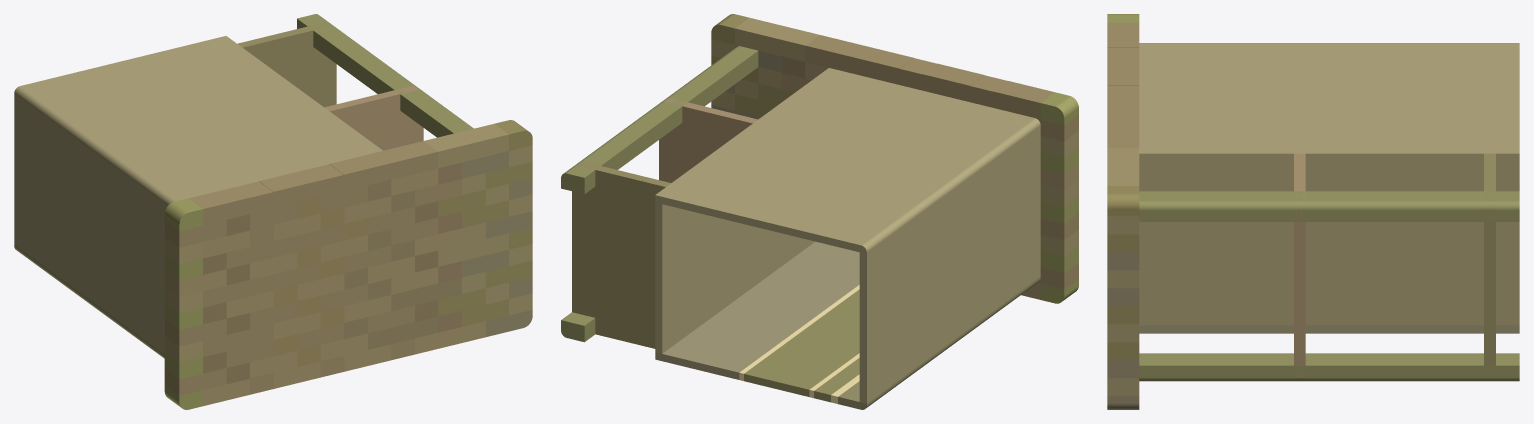
File: BB Island.glb
The picture shows the model from 3 angles, left to right: view 1: azimuth 30°, elevation 25°; view 2: azimuth 150°, elevation 25°; view 3: azimuth 270°, elevation 25°; orthographic projection. The views are drawn at different scales.
Parts seen in each view (by area): view 1: Part 126, Part 125, Part 136, Part 138, Part 137, Part 68, Part 72, Part 104, Part 74, Part 106, Part 64, Part 109 (+57 smaller); view 2: Part 126, Part 138, Part 130, Part 125, Part 136, Part 137, Part 127, Part 131, Part 68, Part 129, Part 64, Part 135 (+17 smaller); view 3: Part 126, Part 136, Part 135, Part 125, Part 130, Part 138, Part 137, Part 92, Part 68, Part 59, Part 57, Part 122 (+9 smaller).
Boxes of the visible parts, x1,y1,x2,y2 form: Part 126: (14,36,382,354); Part 125: (188,141,438,225); Part 136: (297,14,473,137); Part 138: (237,22,336,107); Part 137: (324,86,423,150); Part 68: (424,129,485,167); Part 72: (164,269,226,296); Part 104: (164,220,226,247); Part 74: (164,368,226,395); Part 106: (164,318,226,346); Part 64: (164,198,202,231); Part 109: (250,301,297,329); Part 126: (655,68,1040,403); Part 138: (572,161,670,348); Part 130: (655,241,859,379); Part 125: (805,35,1054,119); Part 136: (561,46,758,194); Part 137: (659,97,757,182); Part 127: (761,306,859,396); Part 131: (744,289,859,385); Part 68: (758,23,819,61); Part 129: (838,277,1040,409); Part 64: (1040,92,1078,124); Part 135: (561,312,595,342); Part 126: (1139,43,1519,325); Part 136: (1139,191,1519,221); Part 135: (1139,353,1519,381); Part 125: (1107,22,1139,148); Part 130: (1139,325,1519,333); Part 138: (1484,153,1495,380); Part 137: (1294,153,1305,381); Part 92: (1107,186,1139,216); Part 68: (1107,148,1139,173); Part 59: (1107,270,1139,288); Part 57: (1107,378,1139,396); Part 122: (1107,288,1139,306).
Size of the model in its own units: 0.9525 by 0.508 by 0.8814.
